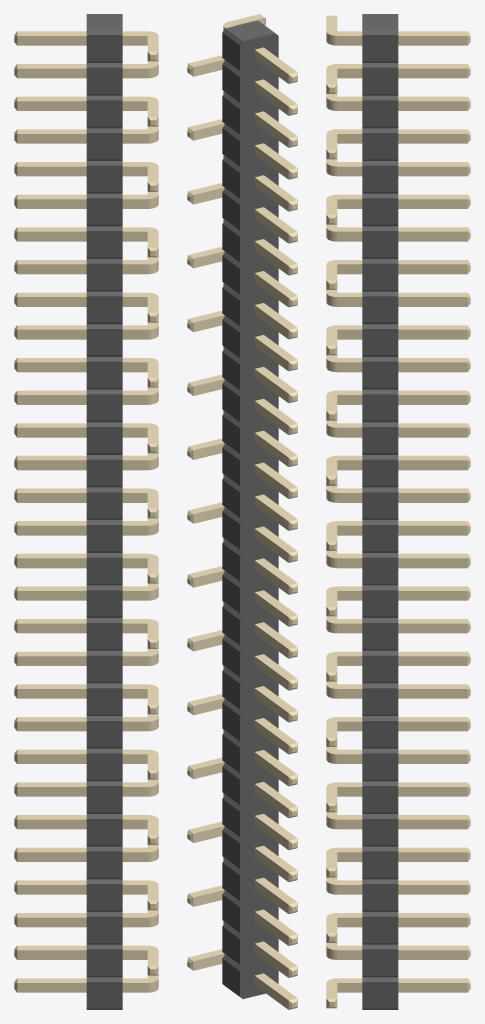
File: PinHeader_1x30_P1.00mm_Vertical_SMD_Pin1Right.glb
3 views of the same model, side by side, from view 1: azimuth 90°, elevation 25°; view 2: azimuth 210°, elevation 25°; view 3: azimuth 270°, elevation 25° (orthographic). The views are drawn at different scales.
Parts seen in each view (by area): view 1: Shape_IndexedFaceSet.019, Shape_IndexedFaceSet.139, Shape_IndexedFaceSet.157, Shape_IndexedFaceSet.175, Shape_IndexedFaceSet.007, Shape_IndexedFaceSet.013, Shape_IndexedFaceSet.025, Shape_IndexedFaceSet.031, Shape_IndexedFaceSet.037, Shape_IndexedFaceSet.043, Shape_IndexedFaceSet.049, Shape_IndexedFaceSet.055 (+72 smaller); view 2: Shape_IndexedFaceSet.004, Shape_IndexedFaceSet.001, Shape_IndexedFaceSet.028, Shape_IndexedFaceSet.112, Shape_IndexedFaceSet.136, Shape_IndexedFaceSet.002, Shape_IndexedFaceSet.022, Shape_IndexedFaceSet.034, Shape_IndexedFaceSet.046, Shape_IndexedFaceSet.052, Shape_IndexedFaceSet.058, Shape_IndexedFaceSet.106 (+95 smaller); view 3: Shape_IndexedFaceSet.016, Shape_IndexedFaceSet.136, Shape_IndexedFaceSet.154, Shape_IndexedFaceSet.172, Shape_IndexedFaceSet.002, Shape_IndexedFaceSet.010, Shape_IndexedFaceSet.022, Shape_IndexedFaceSet.028, Shape_IndexedFaceSet.034, Shape_IndexedFaceSet.040, Shape_IndexedFaceSet.046, Shape_IndexedFaceSet.052 (+73 smaller).
Part boxes in pixels (x1,y1,x2,y2): Shape_IndexedFaceSet.019: (86, 100, 122, 126); Shape_IndexedFaceSet.139: (86, 753, 122, 779); Shape_IndexedFaceSet.157: (86, 851, 122, 877); Shape_IndexedFaceSet.175: (86, 949, 122, 975); Shape_IndexedFaceSet.007: (86, 35, 122, 61); Shape_IndexedFaceSet.013: (86, 67, 122, 93); Shape_IndexedFaceSet.025: (86, 133, 122, 159); Shape_IndexedFaceSet.031: (86, 165, 122, 191); Shape_IndexedFaceSet.037: (86, 198, 122, 224); Shape_IndexedFaceSet.043: (86, 231, 122, 257); Shape_IndexedFaceSet.049: (86, 263, 122, 289); Shape_IndexedFaceSet.055: (86, 296, 122, 322); Shape_IndexedFaceSet.004: (240, 33, 278, 998); Shape_IndexedFaceSet.001: (225, 20, 274, 41); Shape_IndexedFaceSet.028: (222, 160, 239, 198); Shape_IndexedFaceSet.112: (222, 607, 239, 645); Shape_IndexedFaceSet.136: (222, 735, 239, 772); Shape_IndexedFaceSet.002: (222, 32, 239, 70); Shape_IndexedFaceSet.022: (222, 128, 239, 166); Shape_IndexedFaceSet.034: (222, 192, 239, 230); Shape_IndexedFaceSet.046: (222, 256, 239, 293); Shape_IndexedFaceSet.052: (222, 288, 239, 325); Shape_IndexedFaceSet.058: (222, 320, 239, 357); Shape_IndexedFaceSet.106: (222, 575, 239, 613); Shape_IndexedFaceSet.016: (362, 100, 398, 126); Shape_IndexedFaceSet.136: (362, 753, 398, 779); Shape_IndexedFaceSet.154: (362, 851, 398, 877); Shape_IndexedFaceSet.172: (362, 949, 398, 975); Shape_IndexedFaceSet.002: (362, 35, 398, 61); Shape_IndexedFaceSet.010: (362, 67, 398, 93); Shape_IndexedFaceSet.022: (362, 133, 398, 159); Shape_IndexedFaceSet.028: (362, 165, 398, 191); Shape_IndexedFaceSet.034: (362, 198, 398, 224); Shape_IndexedFaceSet.040: (362, 231, 398, 257); Shape_IndexedFaceSet.046: (362, 263, 398, 289); Shape_IndexedFaceSet.052: (362, 296, 398, 322).
Bounding box in the file's own units: 0.984 × 11.81 × 1.58.
